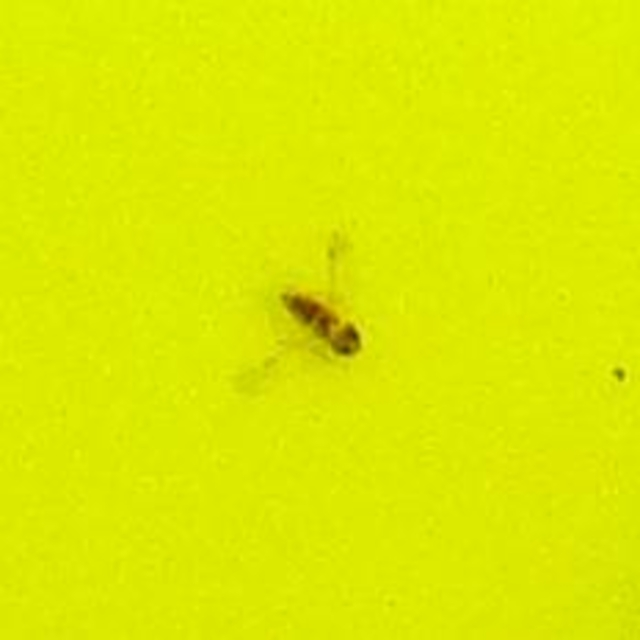Hemiptera: (276, 281, 364, 359)
